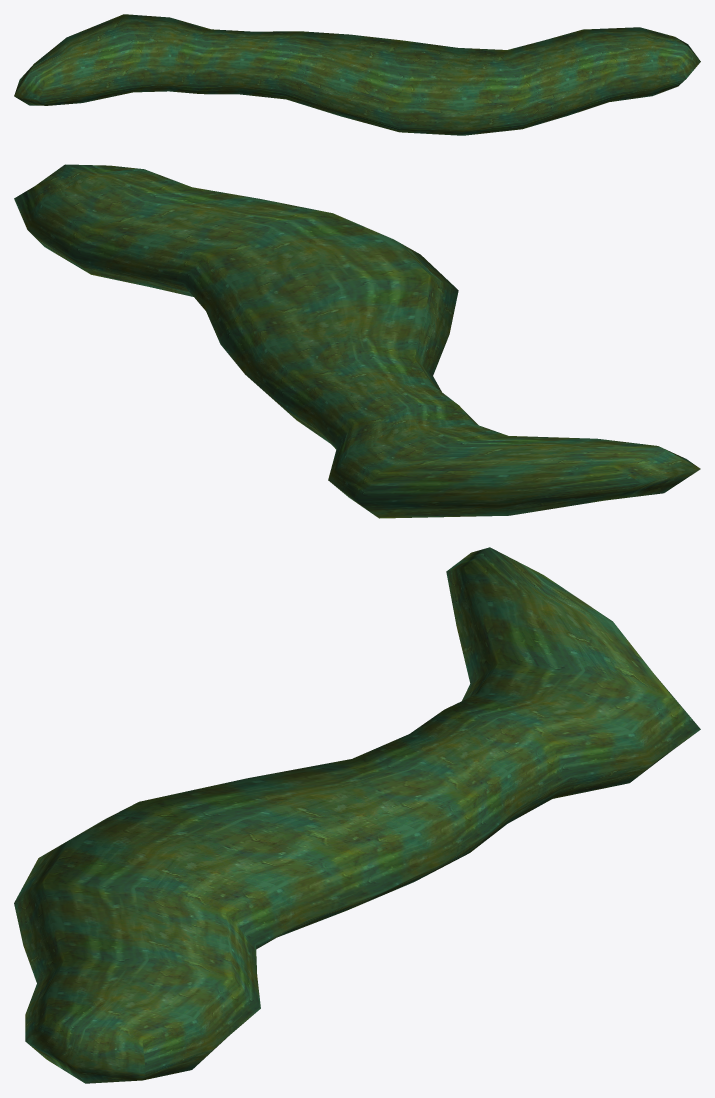
Rendered from MIRKWOOD_MIRK_PLAYSURFACE226.fbx.
3 renders of one model, top to bottom at view 1: azimuth 30°, elevation 25°; view 2: azimuth 150°, elevation 25°; view 3: azimuth 270°, elevation 25°, orthographic. The views are drawn at different scales.
Visible parts, largest first — view 1: MIRKWOOD_MIRK_PLAYSURFACE226; view 2: MIRKWOOD_MIRK_PLAYSURFACE226; view 3: MIRKWOOD_MIRK_PLAYSURFACE226.
Boxes of the visible parts, x1,y1,x2,y2 form: MIRKWOOD_MIRK_PLAYSURFACE226: (14, 14, 700, 135); MIRKWOOD_MIRK_PLAYSURFACE226: (14, 164, 700, 518); MIRKWOOD_MIRK_PLAYSURFACE226: (14, 547, 700, 1083).
Bounding box in the file's own units: 98299 × 8766 × 58802.
Materials: 1 (1 with a texture image).
